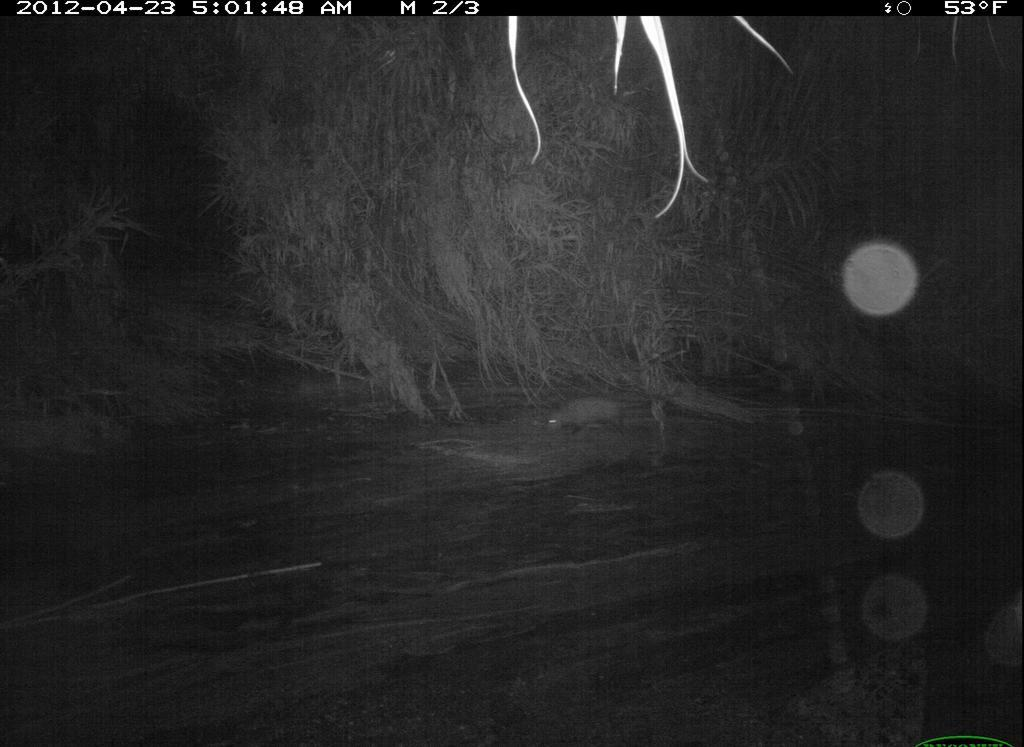opossum: (530, 386, 676, 446)
